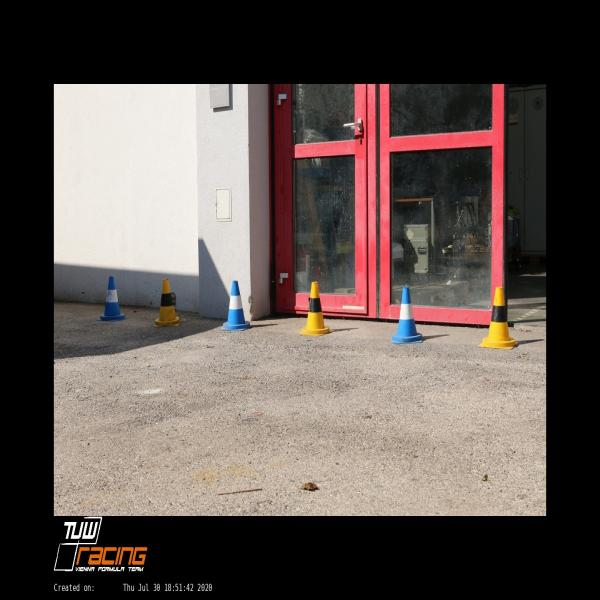blue_cone: (390, 286, 423, 344), (219, 280, 253, 330), (96, 276, 128, 322)
yellow_cone: (478, 288, 519, 348), (297, 281, 335, 336), (152, 279, 182, 326)
